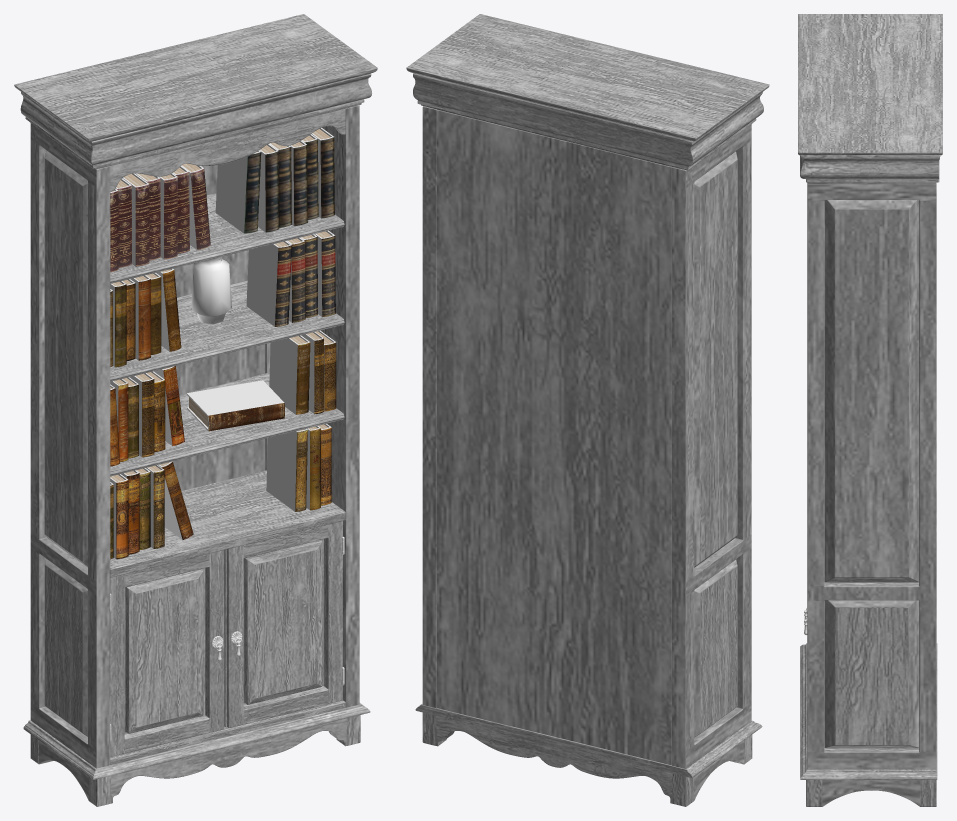
File: bookshelf.glb
3 views of the same model, side by side, from view 1: azimuth 30°, elevation 25°; view 2: azimuth 150°, elevation 25°; view 3: azimuth 270°, elevation 25° (orthographic). The views are drawn at different scales.
Parts seen in each view (by area): view 1: Cube.038, Cube.040, Cube.048, Cube.020, Cube.039, Cube.052, Cube.019, Cube.021, Cylinder, Cube.051, Cube.025, Cube.029 (+32 smaller); view 2: Cube.038; view 3: Cube.038.
Part boxes in pixels (x1,y1,x2,y2): Cube.038: [14, 14, 377, 806]; Cube.040: [224, 521, 342, 727]; Cube.048: [110, 550, 224, 756]; Cube.020: [187, 380, 284, 431]; Cube.039: [246, 241, 291, 326]; Cube.052: [215, 150, 261, 233]; Cube.019: [266, 428, 307, 511]; Cube.021: [269, 335, 310, 414]; Cylinder: [191, 256, 231, 325]; Cube.051: [258, 144, 279, 232]; Cube.025: [122, 173, 149, 266]; Cube.029: [181, 163, 210, 249]; Cube.038: [406, 14, 769, 806]; Cube.038: [798, 14, 942, 806].
Bounding box in the file's own units: 0.8998 × 2 × 0.3974.
Materials: 53 (45 with a texture image).
